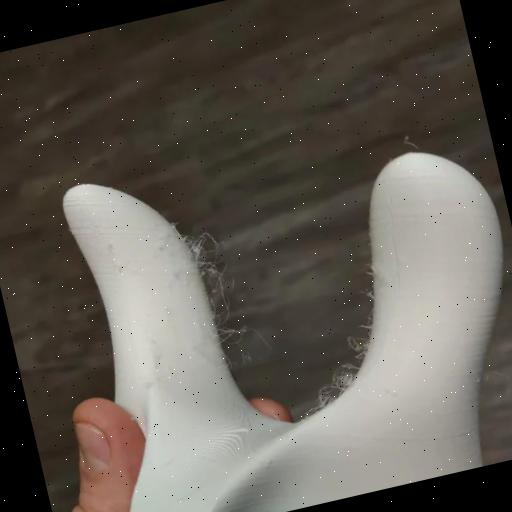stringing: (182, 232, 214, 264), (196, 257, 227, 288), (214, 320, 249, 346), (328, 366, 358, 392), (348, 328, 370, 356), (313, 386, 340, 408)
